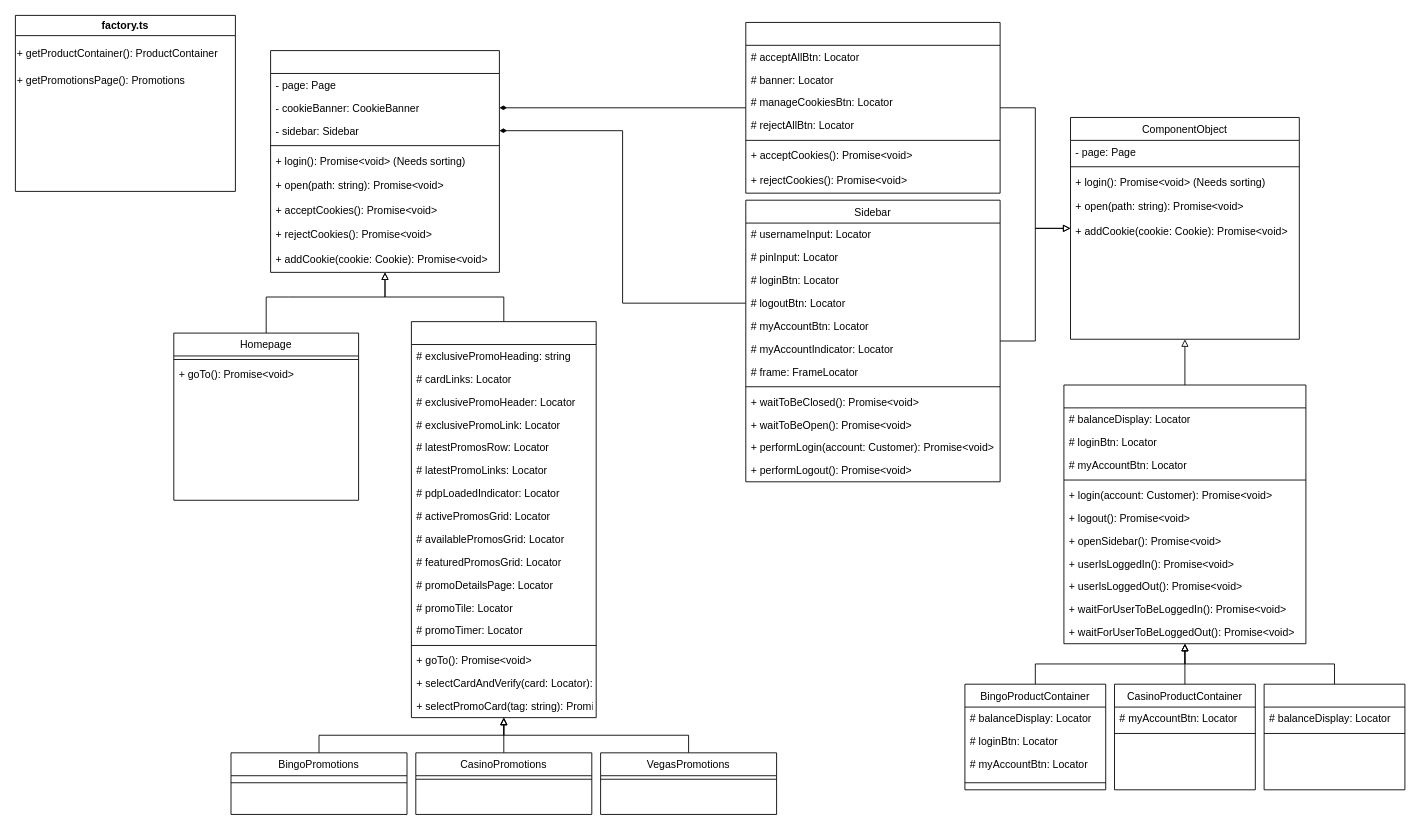
Some shapes in this 1420 by 830 pixel diagram are drawn without their labels. Here are the shapes that lost their labels. From the top down, the box of each, then its label:
(745, 22, 1000, 193): CookieBanner
(270, 50, 499, 272): PageObject
(411, 321, 596, 718): Promotions
(1063, 384, 1306, 644): ProductContainer
(1263, 683, 1405, 790): VegasProductContainer
